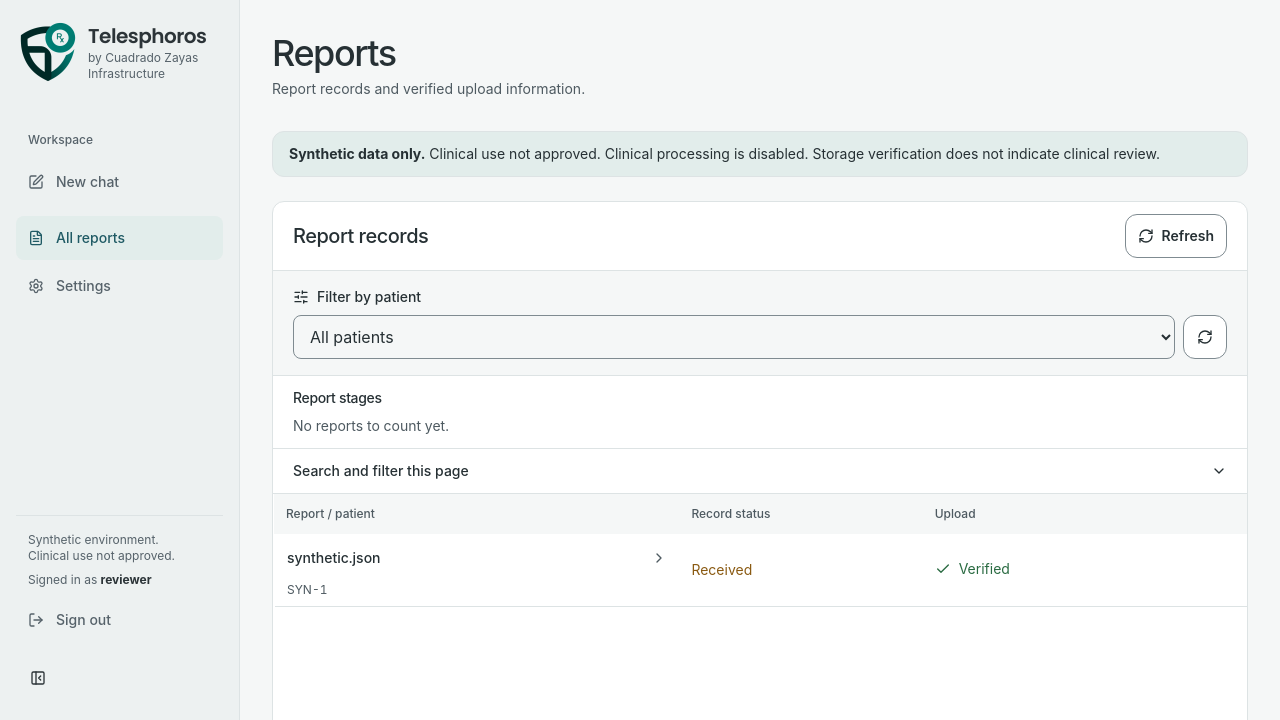
reports page with real auth and route guards › keeps upload verification separate from received status, with keyboard-accessible details
Click the button with aria-label "Open synthetic.json": (334, 558) [287,534,667,582]
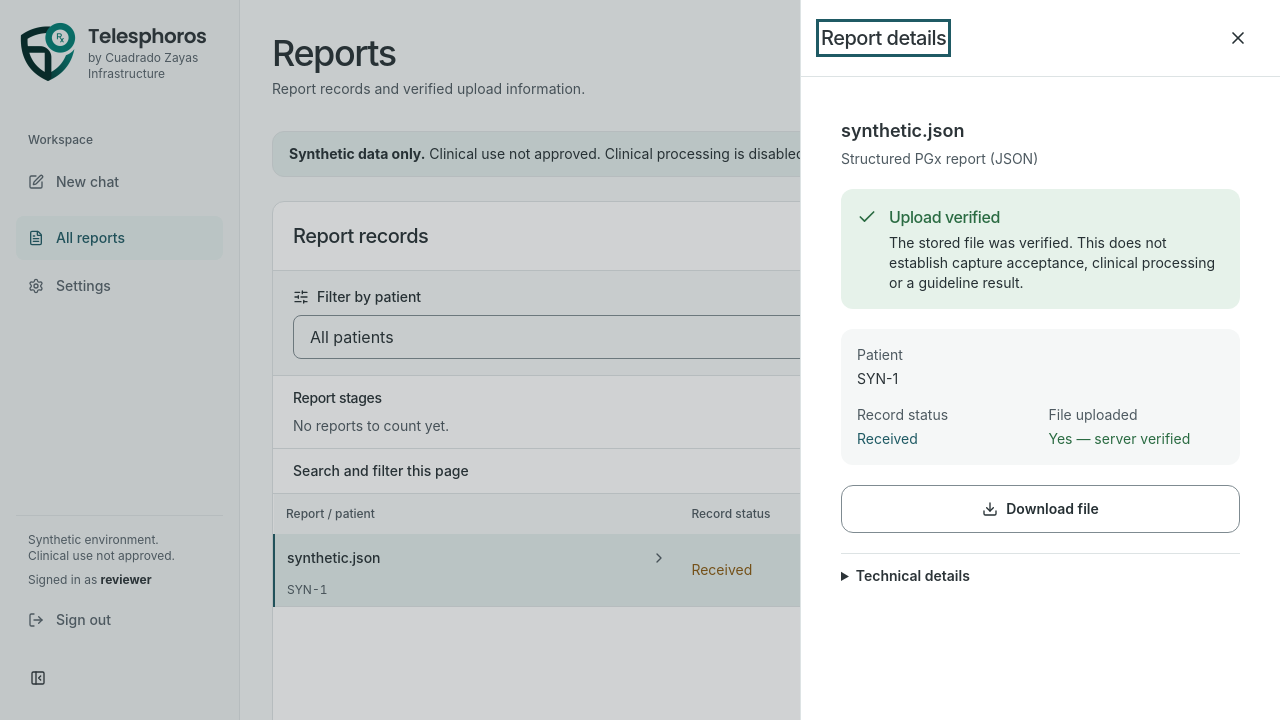
Result: the text "received" is shown at [857,430,918,447]
Result: the text "Yes — server verified" is shown at [1048,430,1190,447]
Result: the text "does not establish capture acceptance" is shown at [889,234,1215,291]
